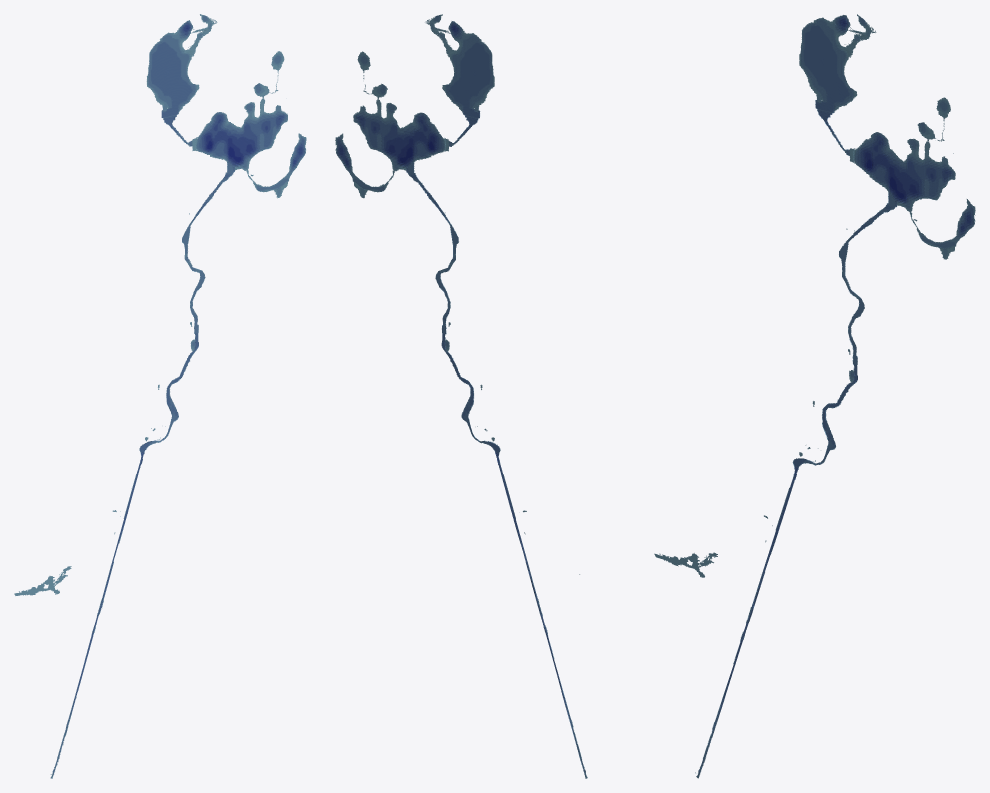
Rendered from triangle_mesh.glb.
The picture shows the model from 3 angles, left to right: view 1: azimuth 30°, elevation 25°; view 2: azimuth 150°, elevation 25°; view 3: azimuth 330°, elevation 25°; orthographic projection. The views are drawn at different scales.
Visible parts, largest first — view 1: world; view 2: world; view 3: world.
Boxes of the visible parts, box(x1,y1,x2,y2) form: world: box(14, 14, 306, 778); world: box(335, 14, 587, 778); world: box(654, 14, 975, 778).
Bounding box in the file's own units: 1147 × 2739 × 13.99.
